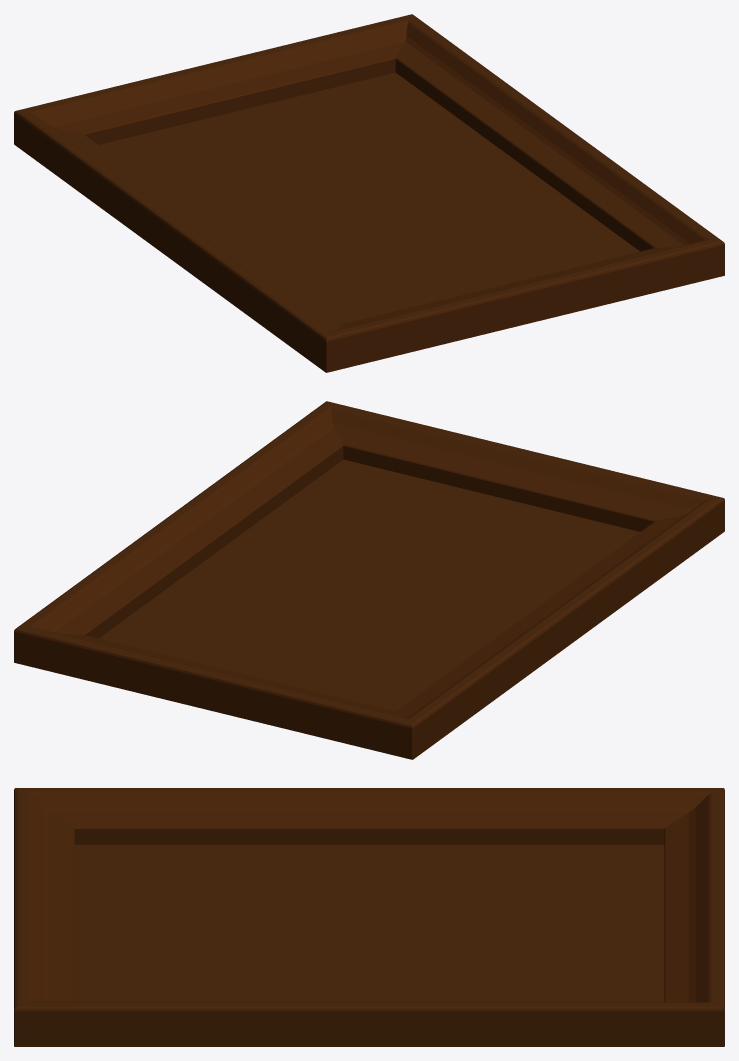
Rendered from FRAME_WALL4.fbx.
3 renders of one model, top to bottom at view 1: azimuth 30°, elevation 25°; view 2: azimuth 150°, elevation 25°; view 3: azimuth 270°, elevation 25°, orthographic. The views are drawn at different scales.
Parts seen in each view (by area): view 1: Plane; view 2: Plane; view 3: Plane.
Part boxes in pixels (bbox=[...]): Plane: bbox=[14, 14, 724, 372]; Plane: bbox=[14, 401, 724, 759]; Plane: bbox=[14, 788, 724, 1046].
Bounding box in the file's own units: 440 × 35.91 × 597.
